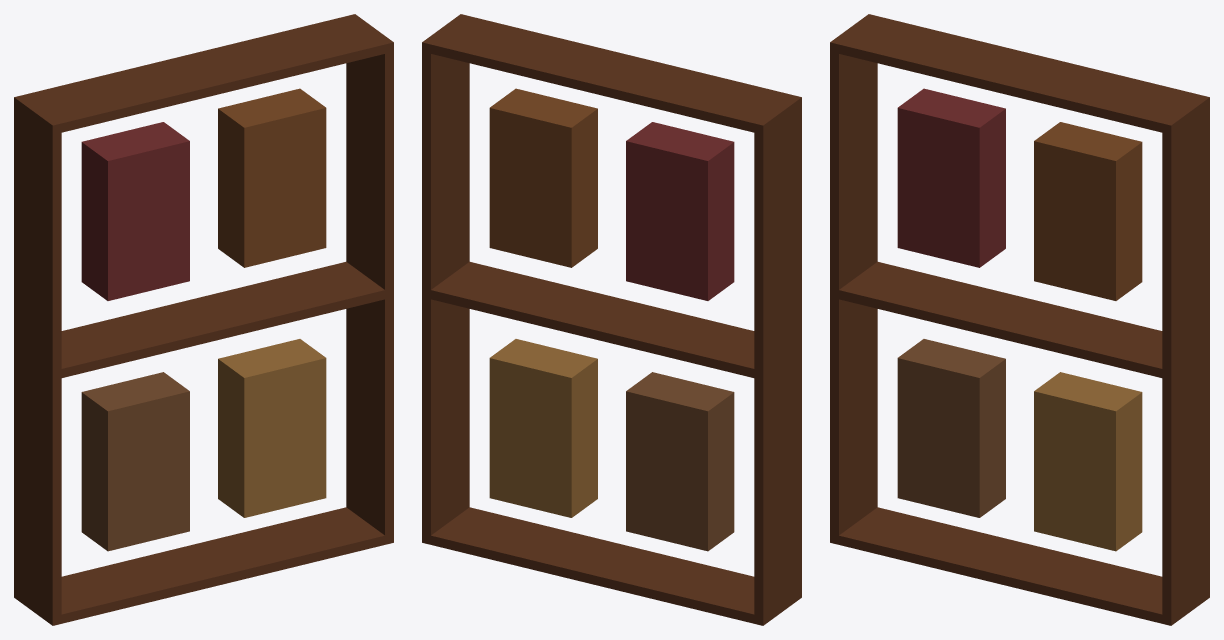
Rendered from leaflet_rack.glb.
3 views of the same model, side by side, from view 1: azimuth 30°, elevation 25°; view 2: azimuth 150°, elevation 25°; view 3: azimuth 330°, elevation 25° (orthographic).
Parts seen in each view (by area): view 1: body; view 2: body; view 3: body.
Boxes of the visible parts, x1=… form: body: x1=14, y1=14, x2=393, y2=625; body: x1=422, y1=14, x2=801, y2=625; body: x1=830, y1=14, x2=1209, y2=625.
Size of the model in its own units: 0.498 by 0.698 by 0.098.
Materials: 1 (1 with a texture image).
